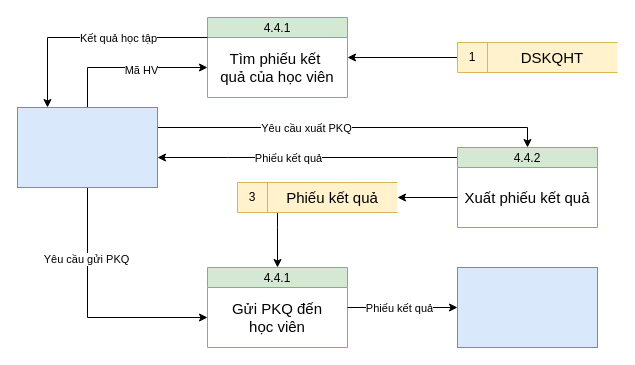
Image size: 635x365. Some labels were removed from this diagram. Here are the shapes that lost their labels. From the top down, the box of each, then its label:
(16, 106, 158, 188): NVQL kết quả học tập
(456, 266, 598, 348): Học viên
